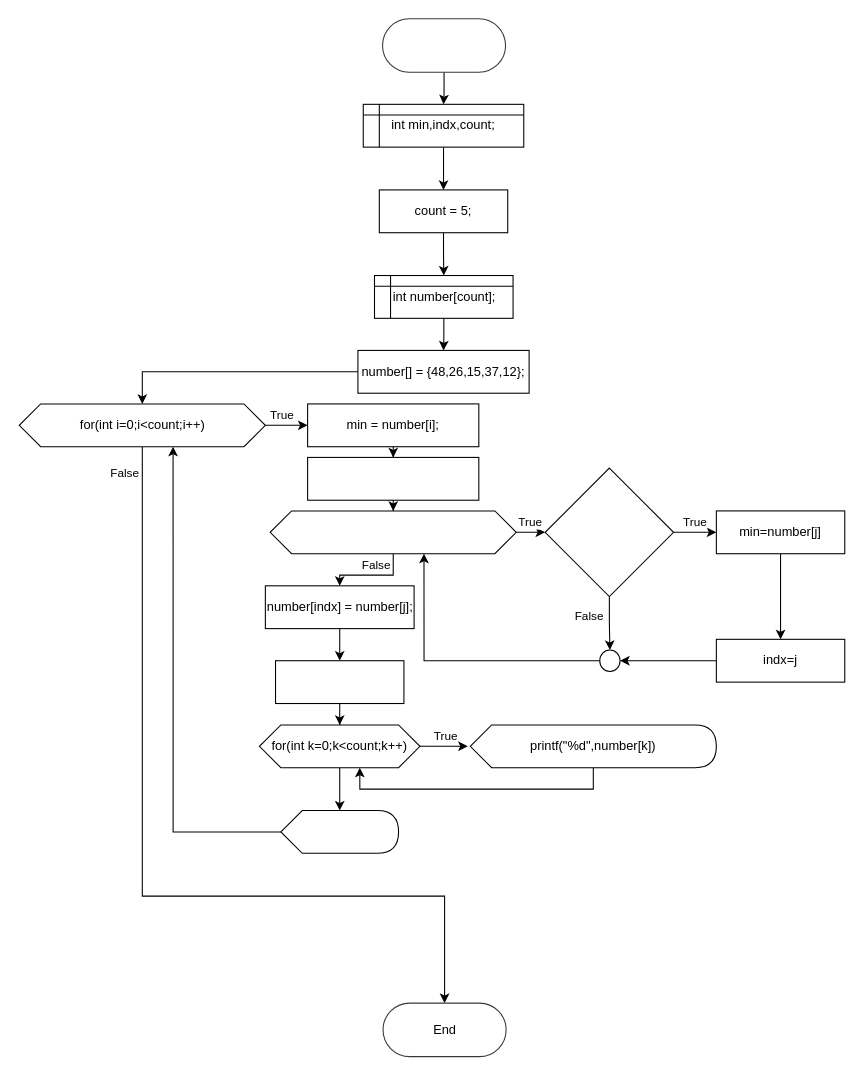
Image size: 863x1075. Some labels were removed from this diagram. Each missing label, with the centre of its shape:
for(int j=i+1;j<count;j++): point 392,532
if(number[j]<min: point 609,532
indx = i;: point 393,478
number[j]=min;: point 339,682
printf("\n"): point 339,831
Start: point 443,45
